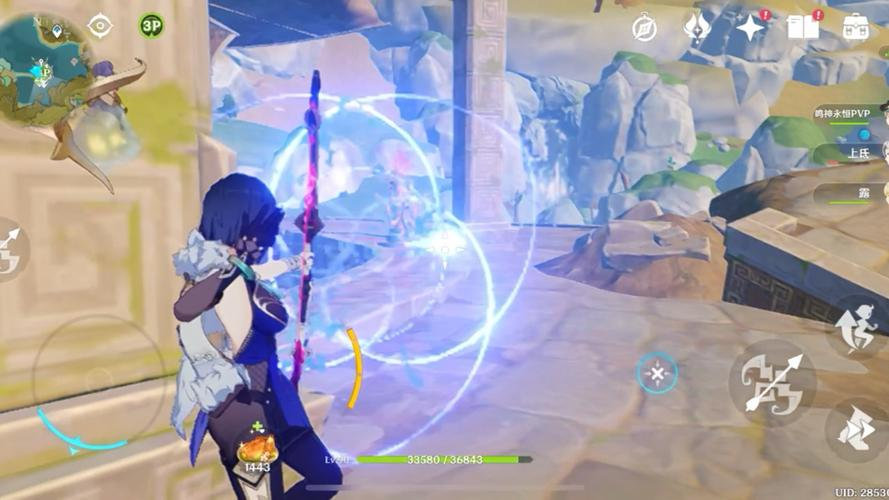夜兰: (165, 158, 361, 498)
